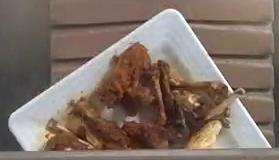chicken: (80, 43, 219, 149)
